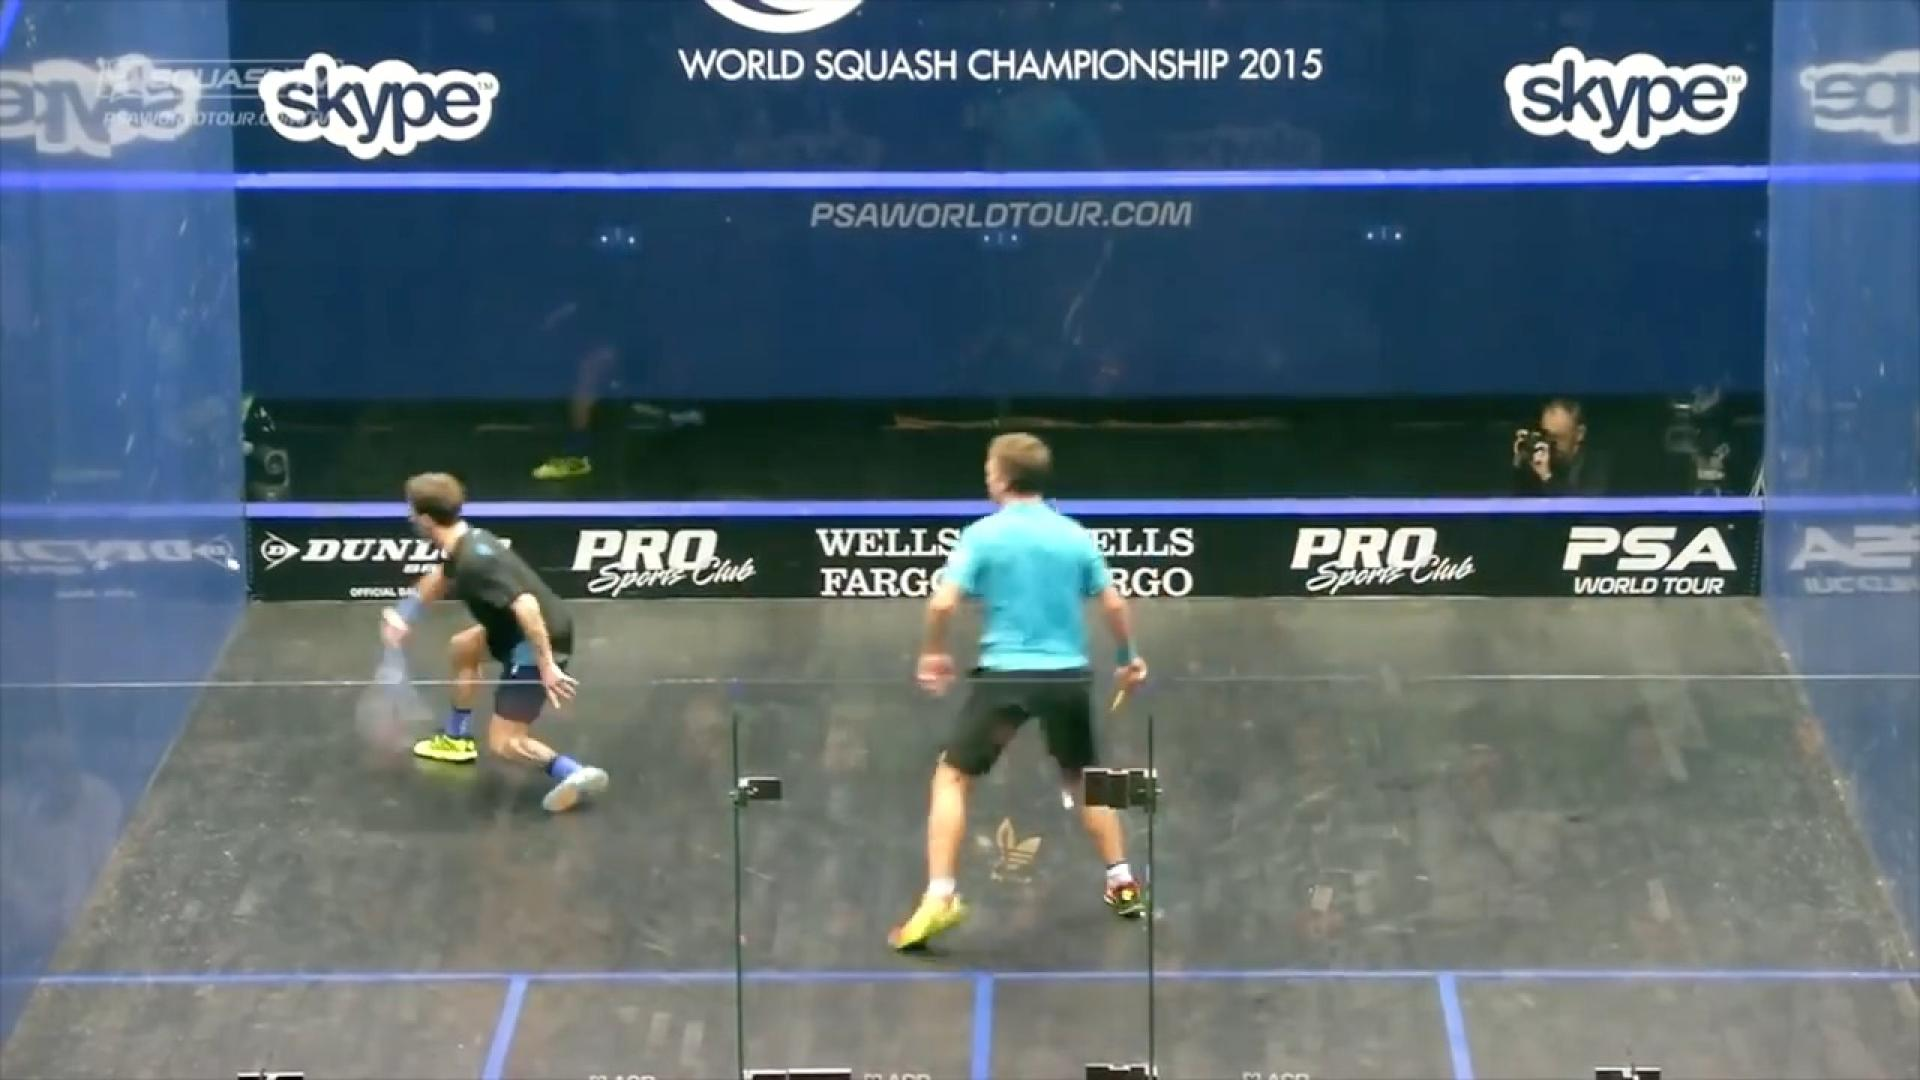Squash-Ball: (207, 539, 257, 587)
